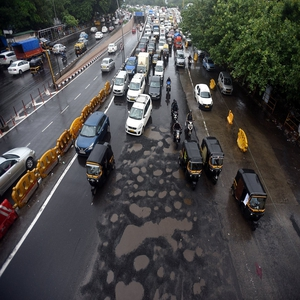pothole: (117, 217, 194, 255), (116, 280, 147, 300), (134, 255, 152, 273), (129, 142, 143, 154), (145, 131, 163, 140), (187, 248, 194, 266)
